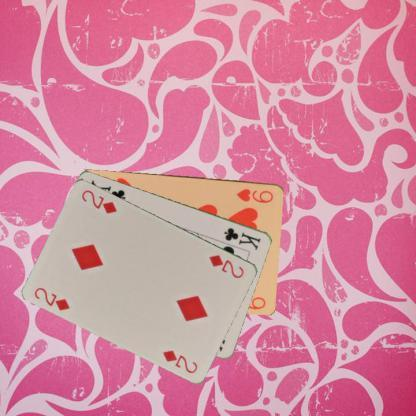2d: (32, 284, 72, 312), (207, 252, 245, 280)
9h: (234, 185, 274, 204)
Kc: (222, 224, 262, 252)
